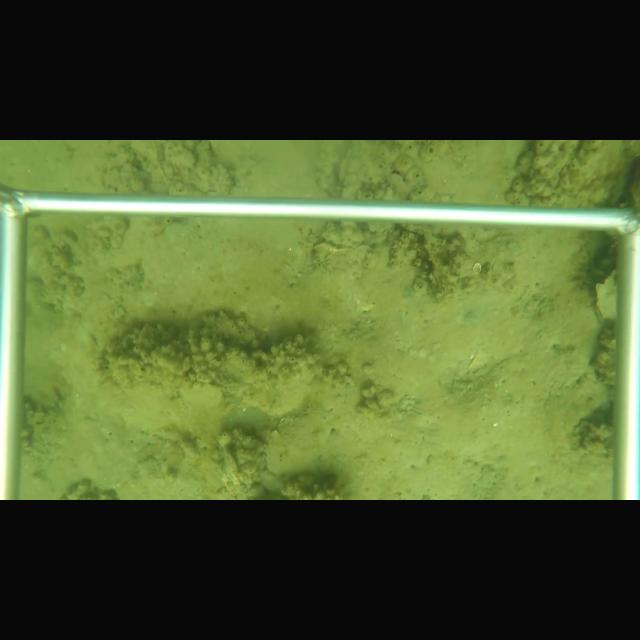Oyster-Closed: (593, 268, 623, 322)
